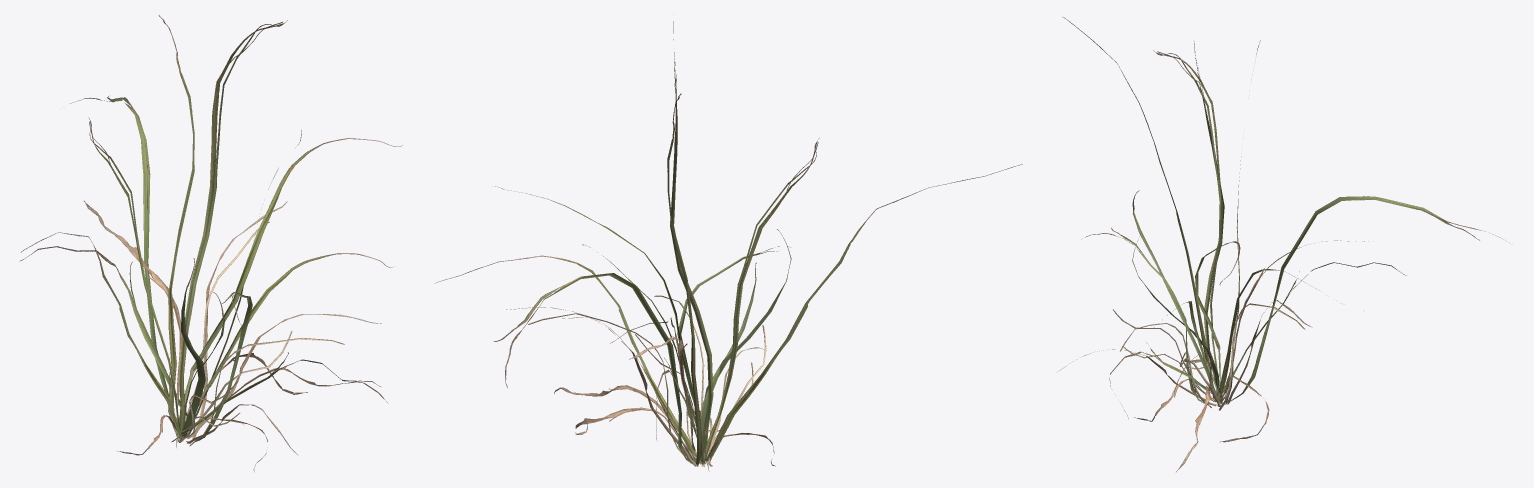
Rendered from grass_b.glb.
3 renders of one model, left to right at view 1: azimuth 30°, elevation 25°; view 2: azimuth 150°, elevation 25°; view 3: azimuth 270°, elevation 25°, orthographic. The views are drawn at different scales.
Parts seen in each view (by area): view 1: Forest_grass_b; view 2: Forest_grass_b; view 3: Forest_grass_b.
Part boxes in pixels (left/top/right/bottom): Forest_grass_b: left=19, top=15, right=402, bottom=471; Forest_grass_b: left=435, top=21, right=1022, bottom=471; Forest_grass_b: left=1059, top=17, right=1505, bottom=472.
Size of the model in its own units: 0.2617 by 0.2316 by 0.2495.
Materials: 1 (1 with a texture image).
